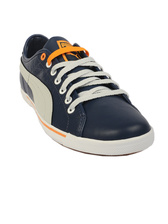shoes: (10, 29, 159, 158)
